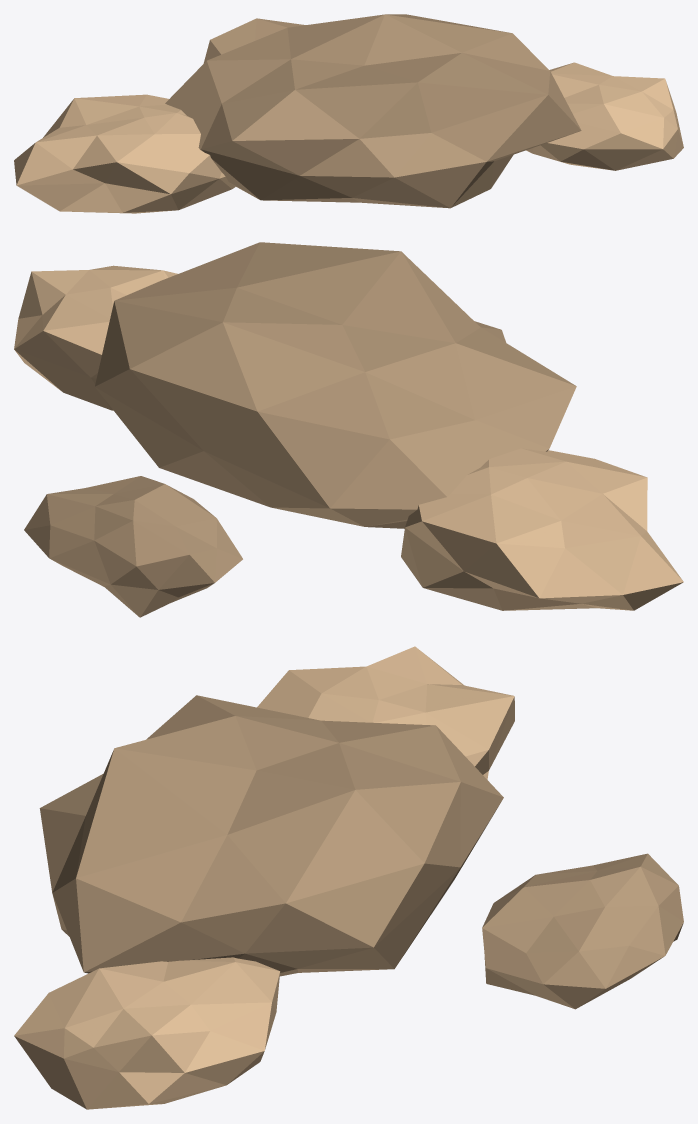
File: t2_rock_depleted.glb
The picture shows the model from 3 angles, top to bottom: view 1: azimuth 30°, elevation 25°; view 2: azimuth 150°, elevation 25°; view 3: azimuth 270°, elevation 25°; orthographic projection. The views are drawn at different scales.
Parts seen in each view (by area): view 1: RubbleCenter, RubbleLeft, RubbleRight, RubbleFront; view 2: RubbleCenter, RubbleLeft, RubbleFront, RubbleRight; view 3: RubbleCenter, RubbleRight, RubbleFront, RubbleLeft.
Part boxes in pixels (left/top/right/bottom): RubbleCenter: left=165, top=14, right=581, bottom=208; RubbleLeft: left=14, top=94, right=235, bottom=213; RubbleRight: left=526, top=62, right=683, bottom=170; RubbleFront: left=203, top=18, right=305, bottom=63; RubbleCenter: left=95, top=242, right=576, bottom=528; RubbleLeft: left=401, top=448, right=683, bottom=610; RubbleFront: left=24, top=476, right=242, bottom=617; RubbleRight: left=14, top=265, right=177, bottom=410; RubbleCenter: left=39, top=695, right=503, bottom=976; RubbleRight: left=14, top=957, right=280, bottom=1109; RubbleFront: left=482, top=853, right=683, bottom=1009; RubbleLeft: left=257, top=646, right=514, bottom=779.
Bounding box in the file's own units: 1.02 × 0.2306 × 0.7037.
